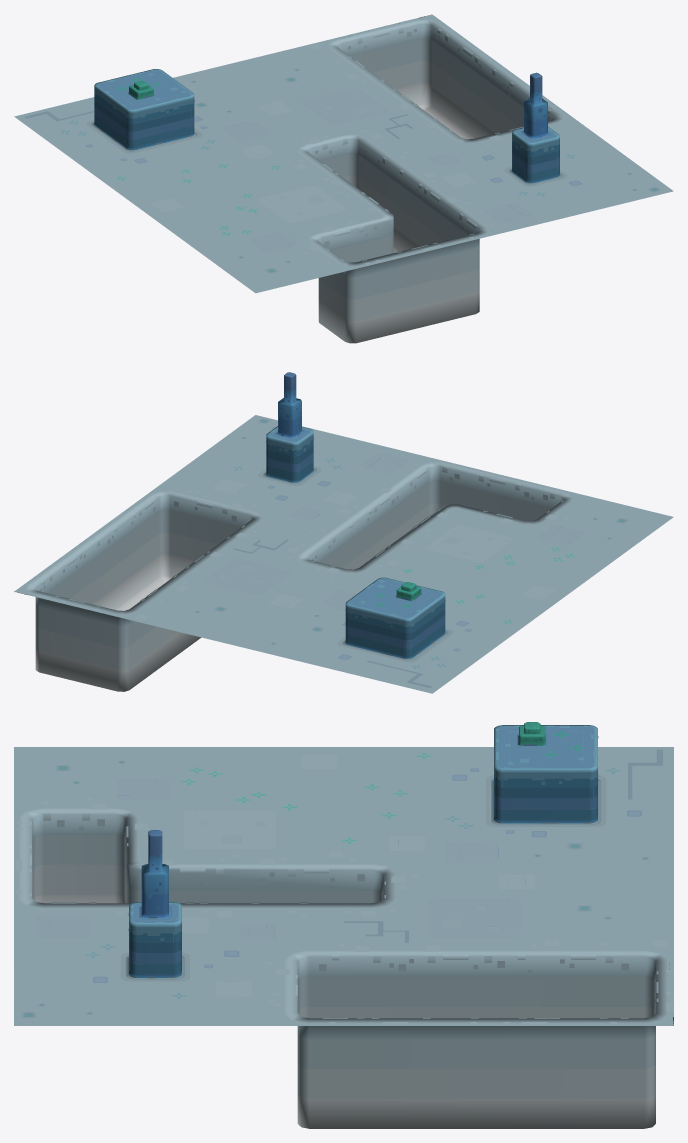
File: C_mountain2_07.fbx
3 views of the same model, one above another, from view 1: azimuth 30°, elevation 25°; view 2: azimuth 150°, elevation 25°; view 3: azimuth 270°, elevation 25° (orthographic). The views are drawn at different scales.
Parts seen in each view (by area): view 1: C_mountain2_07.002; view 2: C_mountain2_07.002; view 3: C_mountain2_07.002.
Boxes of the visible parts, x1=… form: C_mountain2_07.002: x1=14, y1=14, x2=673, y2=343; C_mountain2_07.002: x1=14, y1=372, x2=673, y2=693; C_mountain2_07.002: x1=14, y1=722, x2=673, y2=1128.
Size of the model in its own units: 50 by 20.64 by 50.
Materials: 1 (1 with a texture image).
